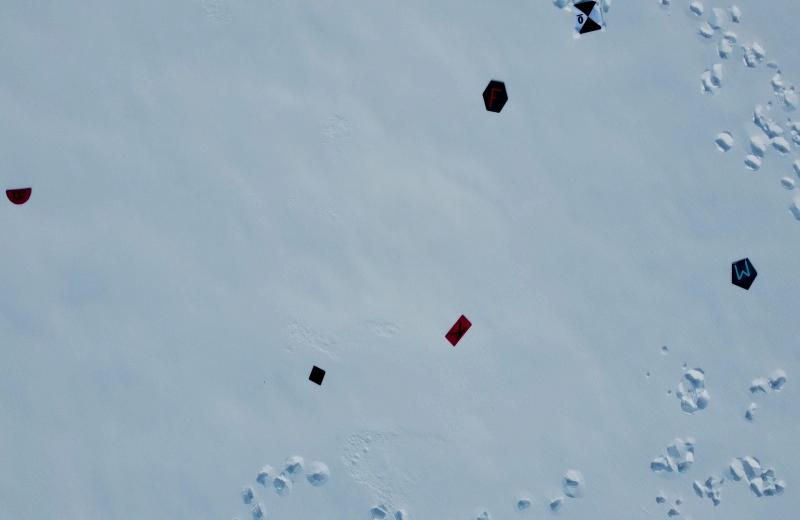Hexagon: (482, 79, 509, 114)
Pentagon: (729, 256, 760, 292)
Rectangle: (443, 314, 477, 347)
Semi Circle: (5, 186, 32, 209)
Square: (307, 364, 329, 391)
